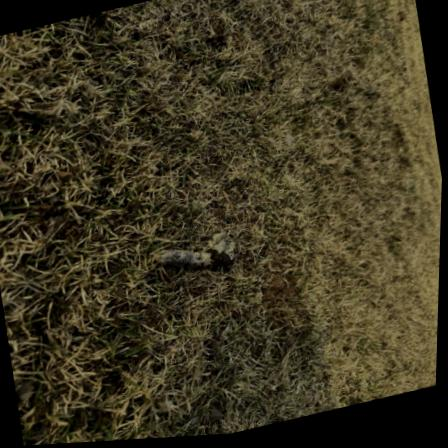dog-poop: (151, 228, 248, 290)
